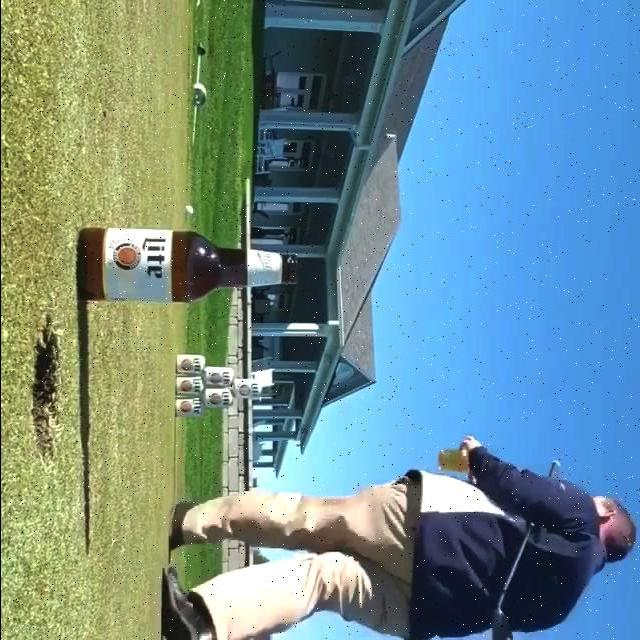golf ball: (185, 205, 193, 214)
golf club-handle: (485, 458, 562, 640)
golf club-head: (486, 607, 509, 640)
